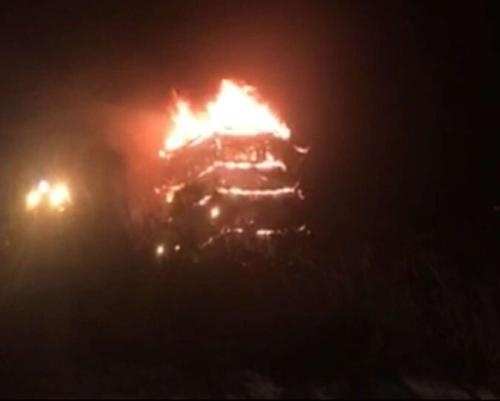fire: (157, 77, 300, 208), (24, 175, 73, 213)
